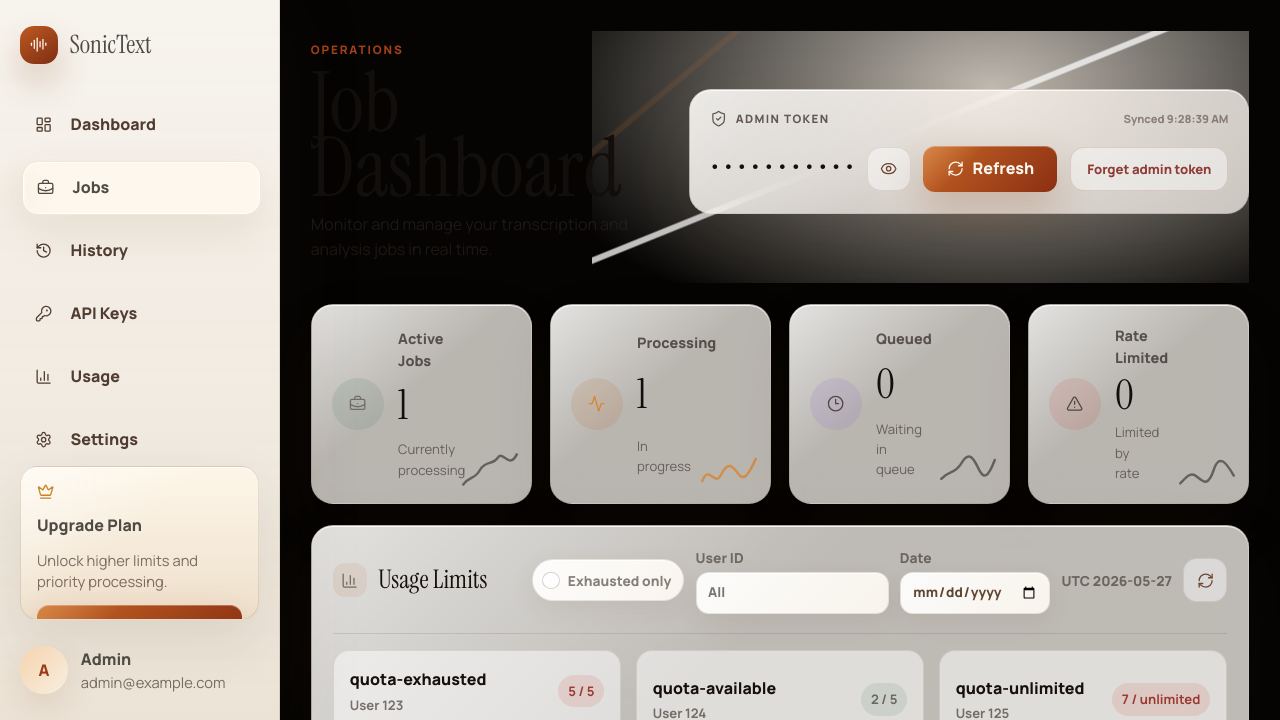
Test: AdminJobsDashboard › forgets only the admin token and clears loaded dashboard data
The image size is (1280, 720).
Click the button "History". click: (140, 250)
box: x1=20 y1=224 x2=259 y2=278
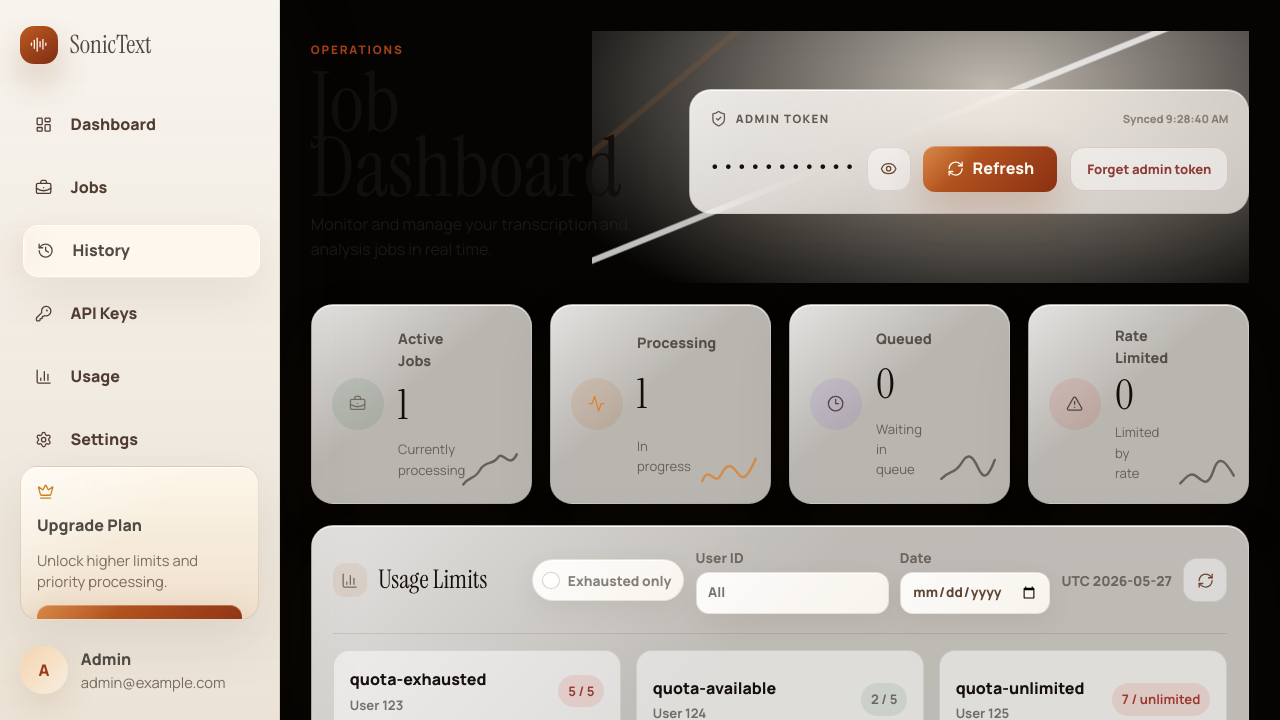
Click the button "Forget admin token". click: (1149, 169)
box: x1=1070 y1=147 x2=1228 y2=191
(page scrolled)
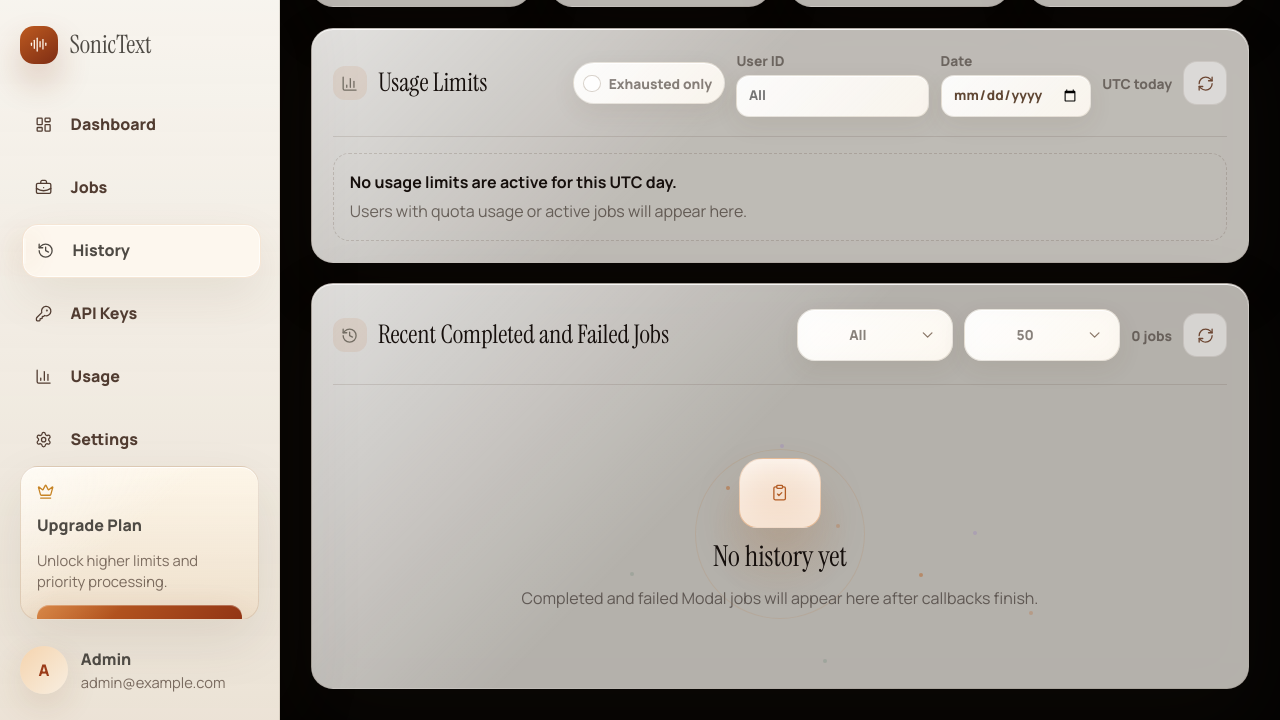
Expected: the heading "No history yet" is shown, x1=713 y1=540 x2=847 y2=574
Expected: the text "Synced" is gone
